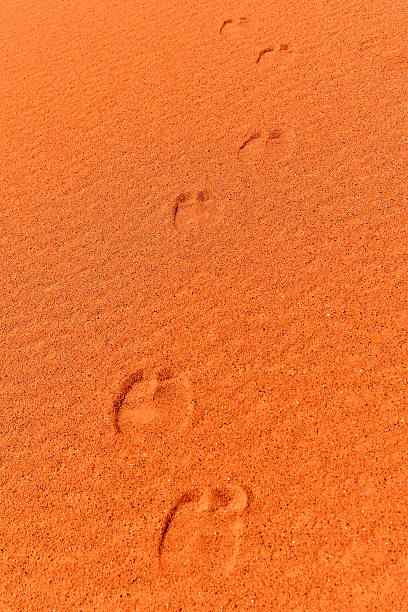animal_foot_print: (158, 483, 248, 584), (113, 367, 192, 453), (237, 125, 293, 163), (172, 190, 222, 229), (255, 42, 297, 70), (219, 16, 257, 40)
